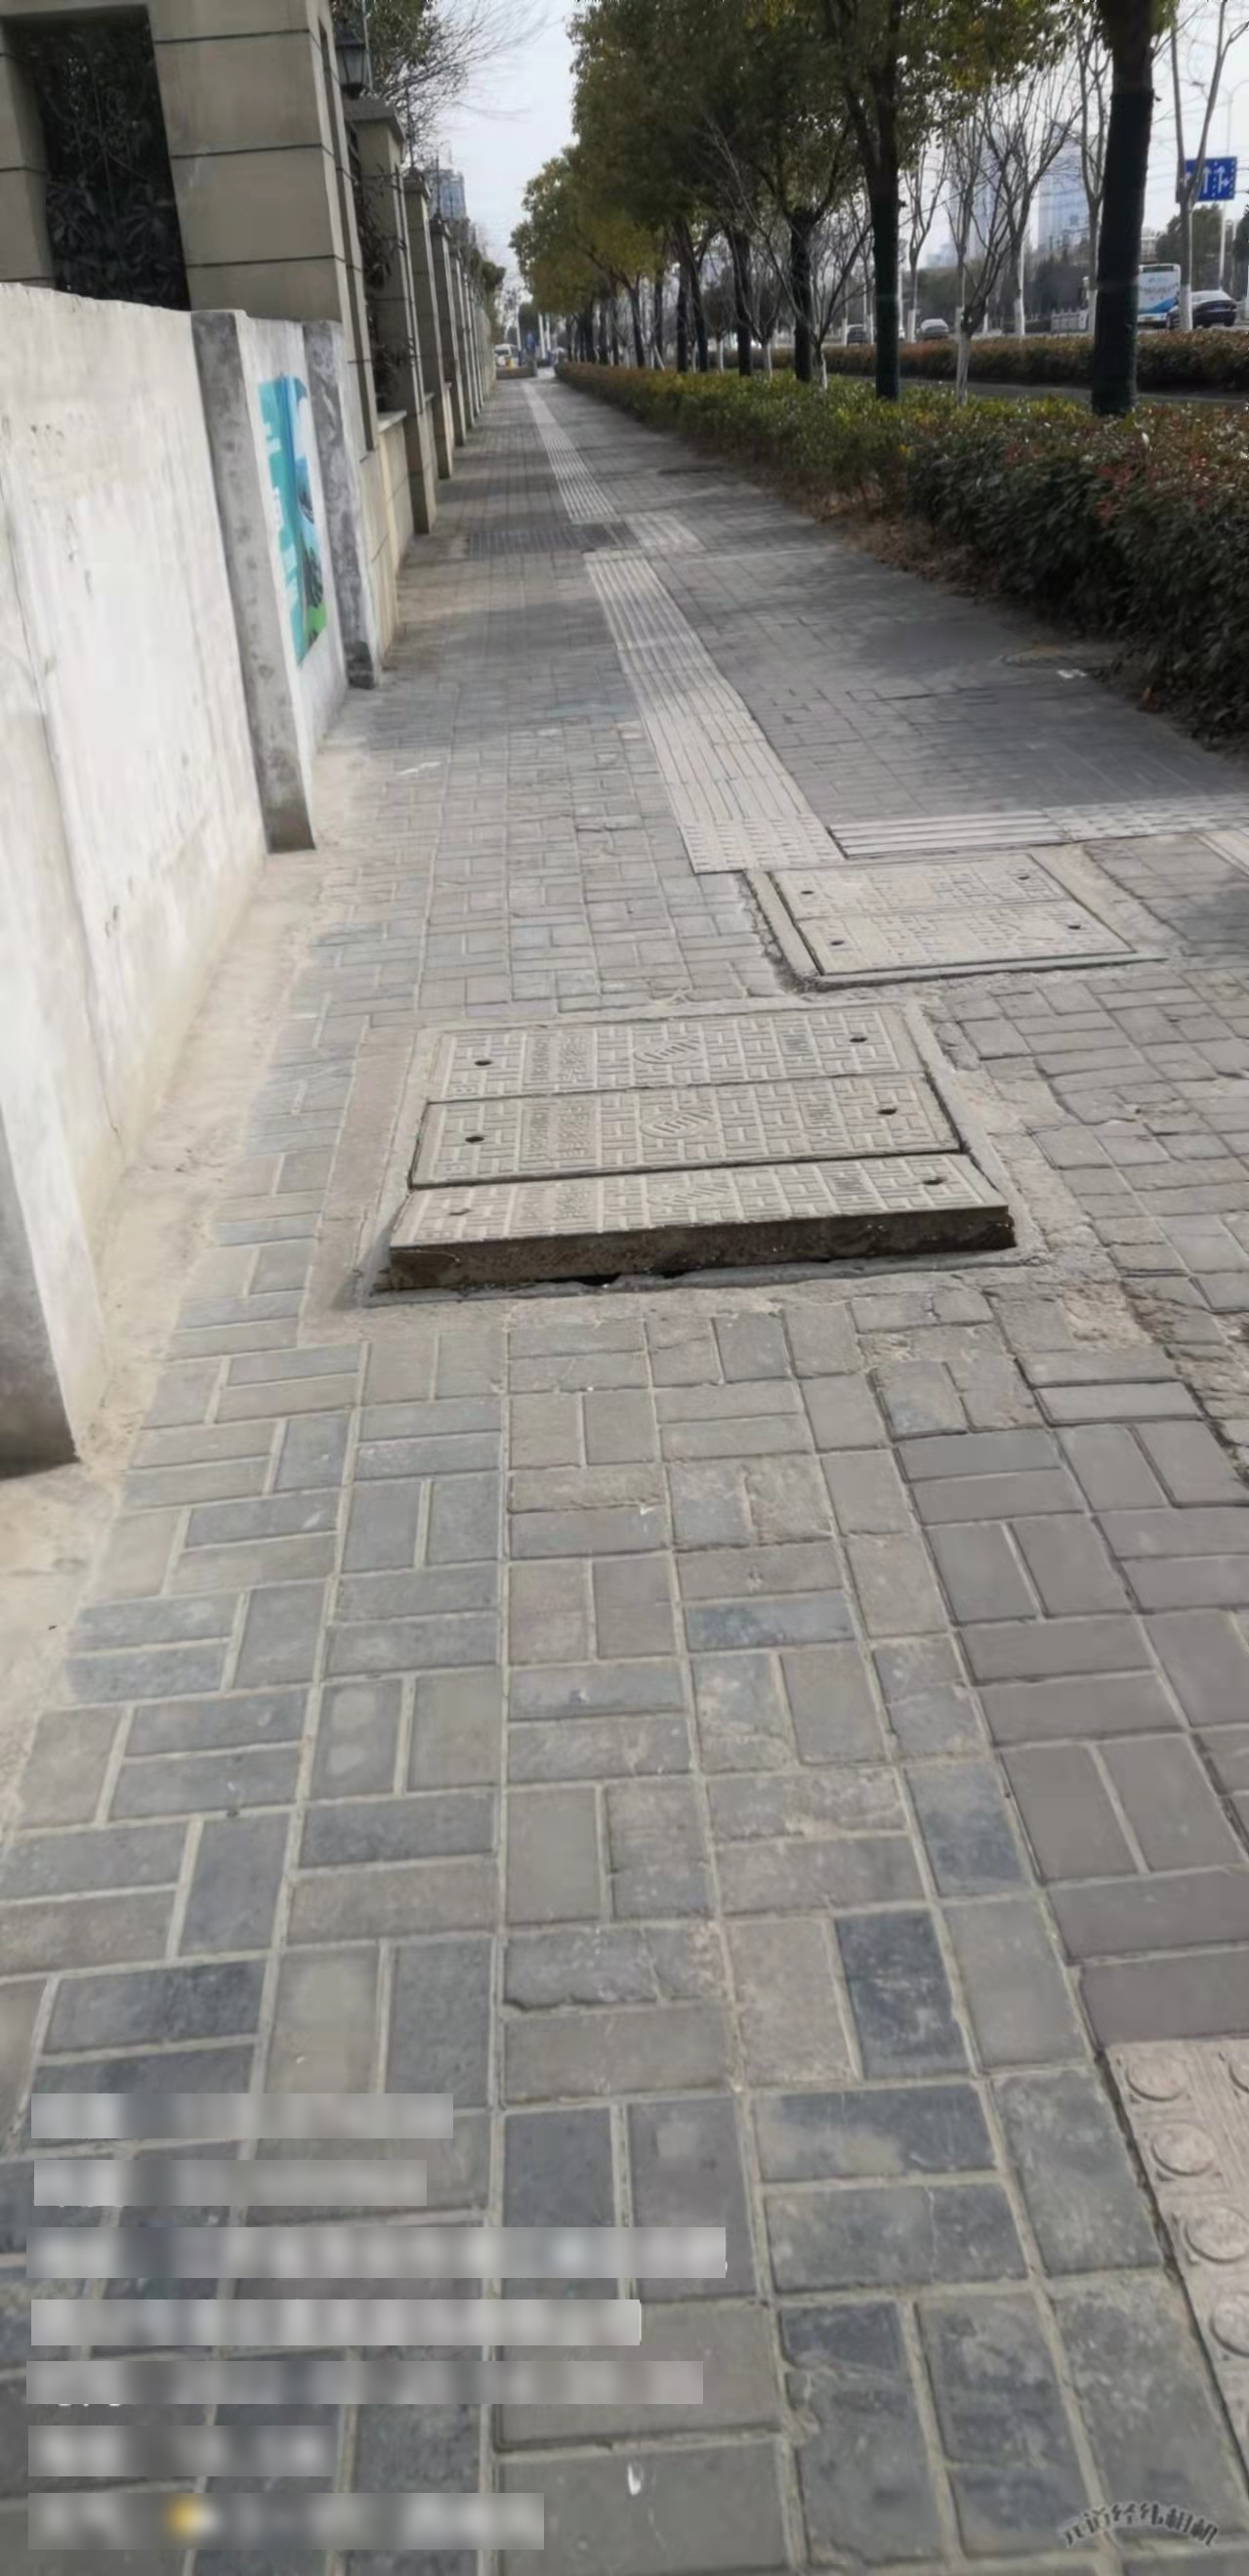well: (343, 999, 1050, 1283), (699, 657, 1236, 853), (737, 844, 1185, 991)
